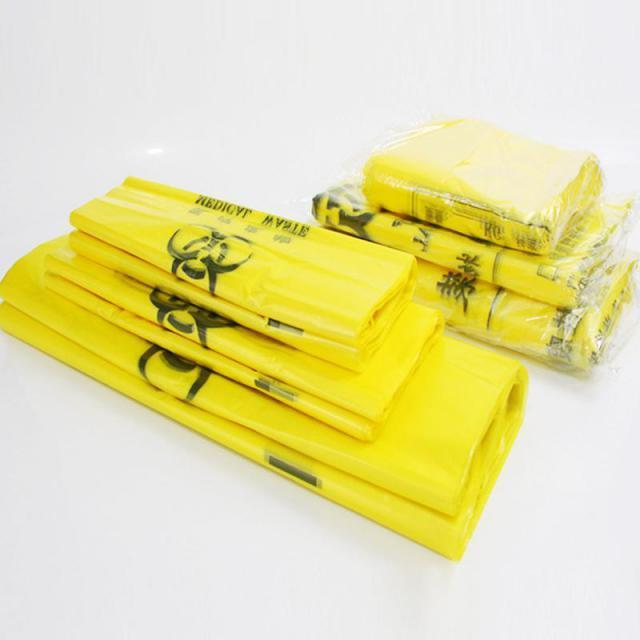waste: (0, 180, 514, 533), (372, 109, 602, 240)
